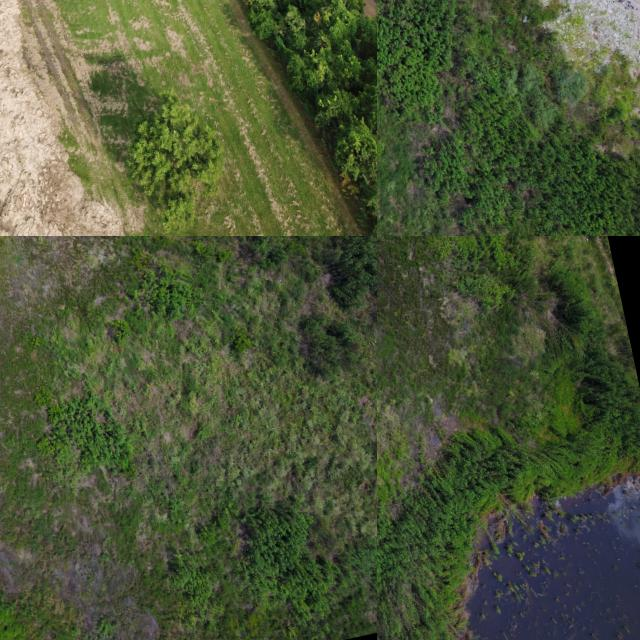fire: (466, 479, 640, 640)
